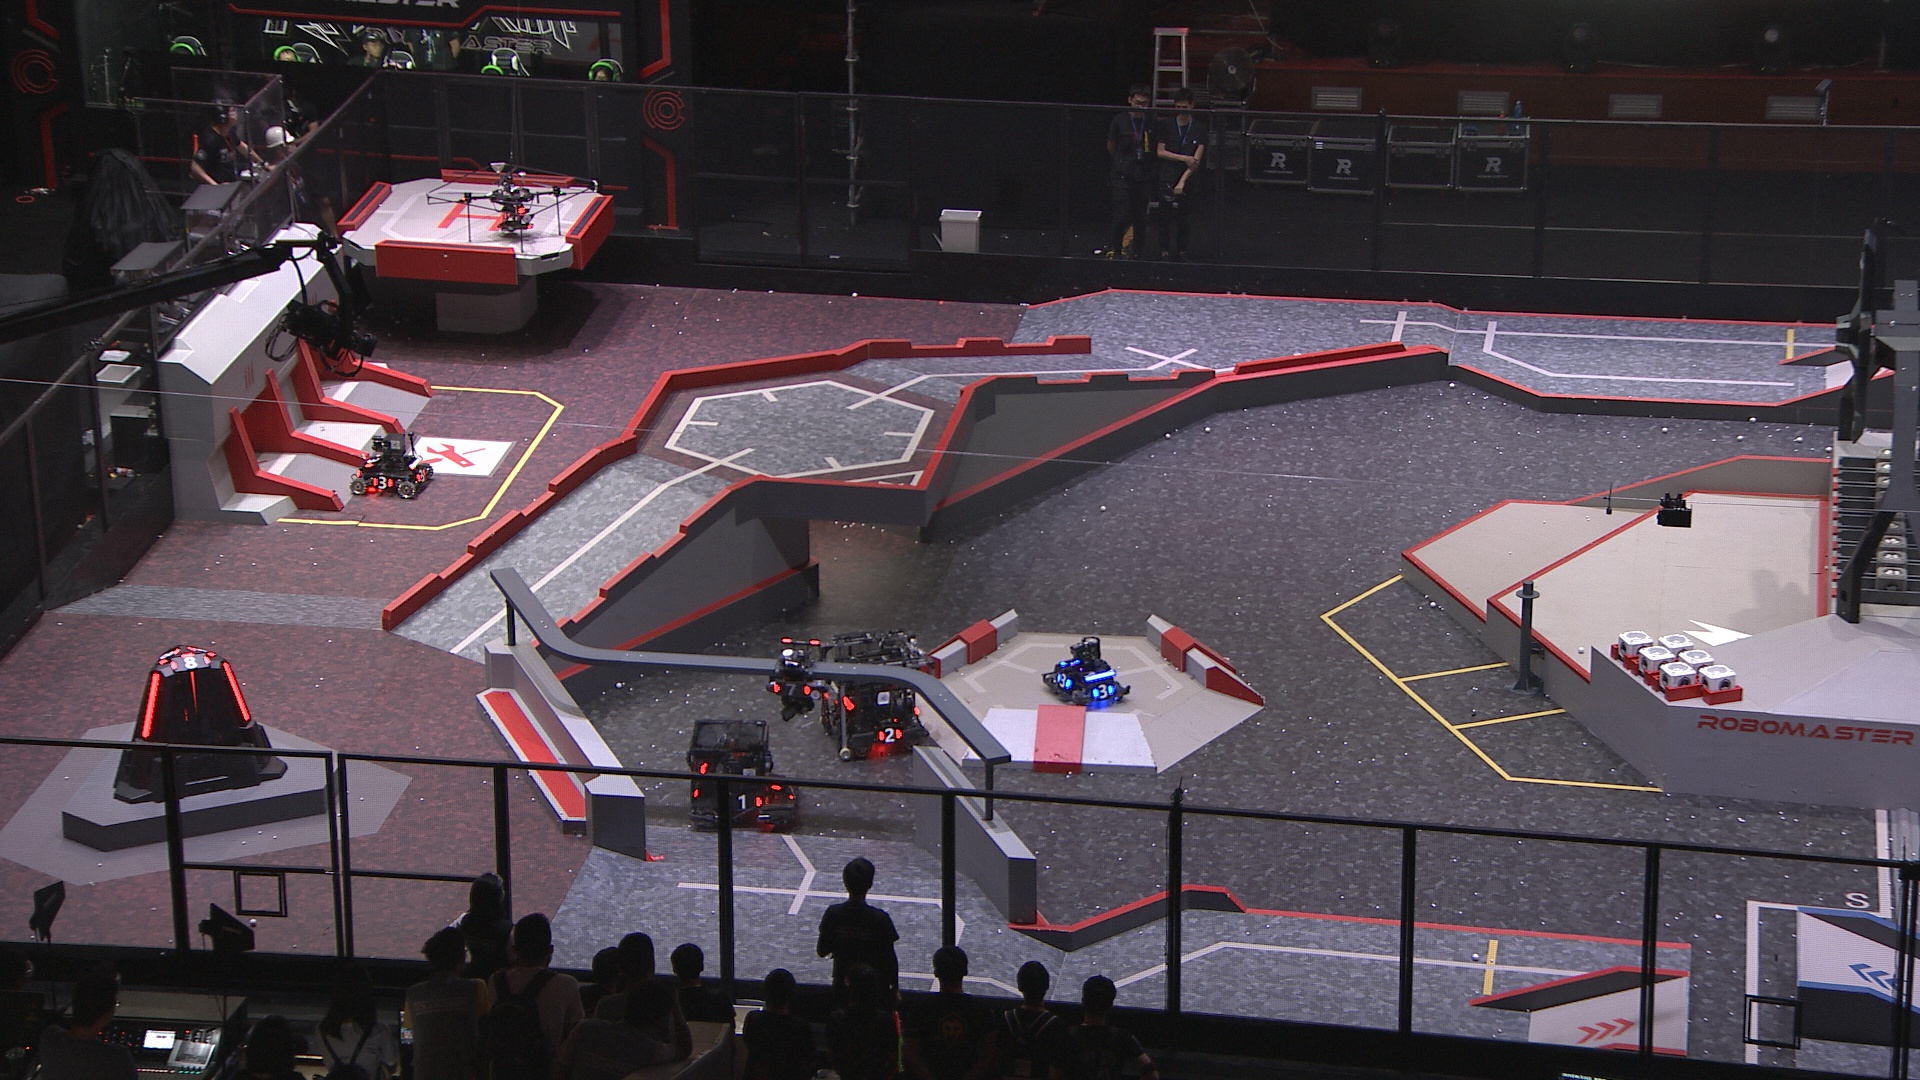armor: (220, 661, 249, 719), (144, 671, 161, 737), (771, 678, 808, 698), (167, 654, 207, 671), (731, 794, 764, 812), (876, 727, 906, 744), (154, 645, 179, 665), (189, 671, 200, 712), (1054, 670, 1072, 690), (371, 475, 396, 489), (365, 452, 384, 469), (1092, 684, 1112, 700), (787, 783, 799, 804), (415, 465, 429, 484)
base: (107, 638, 285, 802)
car: (684, 711, 806, 836), (818, 636, 934, 756), (1038, 638, 1127, 709), (349, 436, 434, 505)
watcher: (766, 636, 827, 719)
